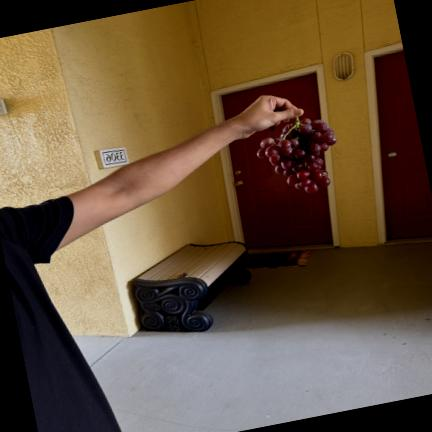grape_cluster: (257, 117, 337, 194), (113, 409, 245, 432)
